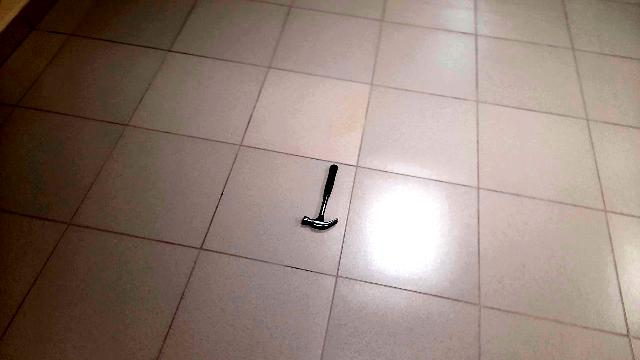hammer: (300, 162, 352, 234)
